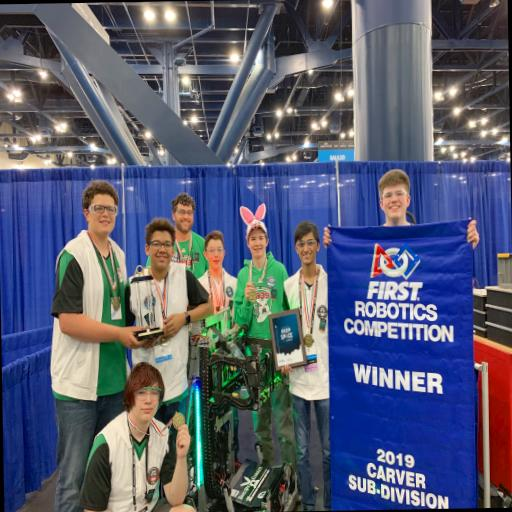robot: (181, 302, 310, 512)
